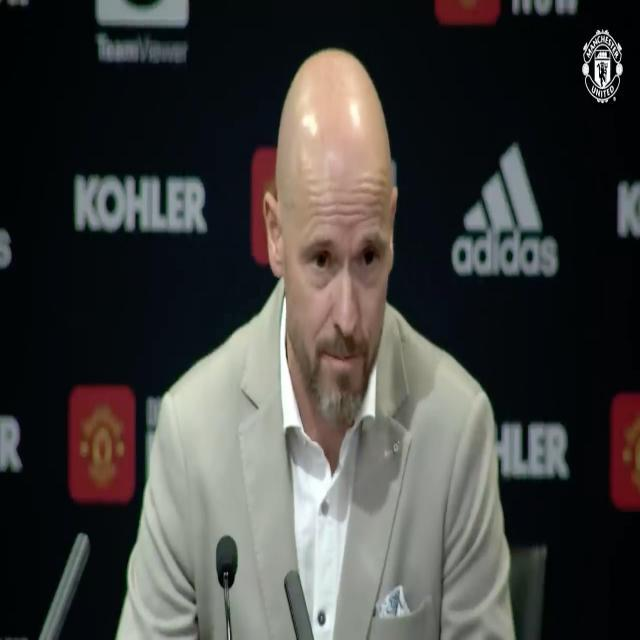Adidas: (450, 139, 558, 279)
Kohler: (74, 175, 208, 234)
TeamViewer: (96, 0, 189, 63)
